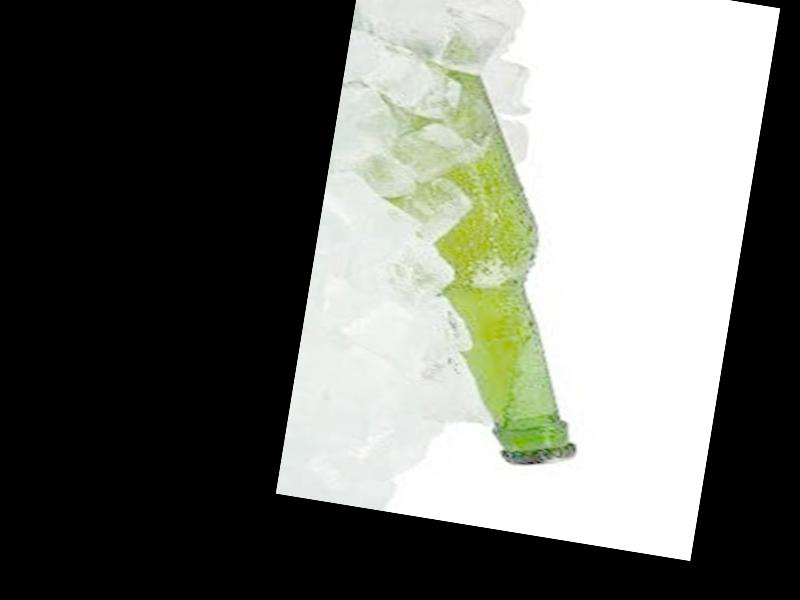Beer: (365, 37, 634, 478)
